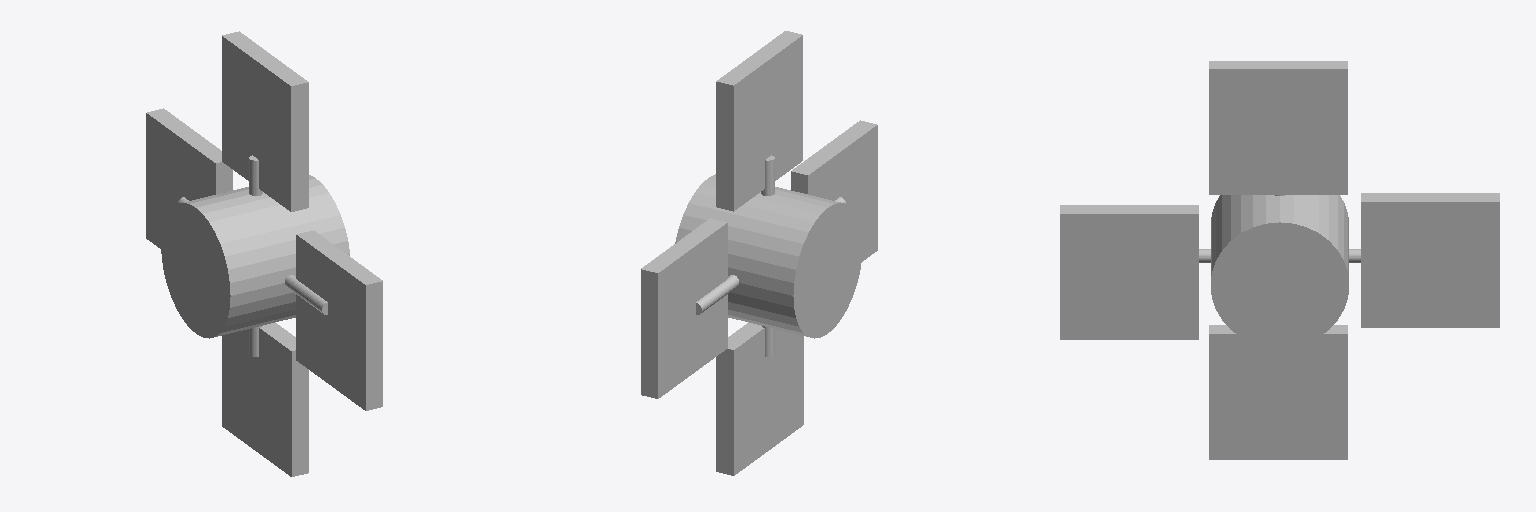
File: space_debris2.obj
The picture shows the model from 3 angles: view 1: azimuth 30°, elevation 25°; view 2: azimuth 150°, elevation 25°; view 3: azimuth 270°, elevation 25°; orthographic projection.
Visible parts, largest first — view 1: Cylinder, Plane.002, Plane, Plane.003, Plane.001, Cylinder.002; view 2: Cylinder, Plane.002, Plane.001, Plane.003, Plane, Cylinder.001; view 3: Cylinder, Plane, Plane.001, Plane.002, Plane.003.
Boxes of the visible parts, box(x1,y1,x2,y2) form: Cylinder: box(161, 175, 349, 338); Plane.002: box(222, 31, 308, 211); Plane: box(296, 230, 382, 410); Plane.003: box(222, 322, 308, 476); Plane.001: box(146, 108, 232, 248); Cylinder.002: box(285, 275, 327, 314); Cylinder: box(675, 174, 862, 338); Plane.002: box(716, 31, 802, 211); Plane.001: box(641, 218, 727, 398); Plane.003: box(716, 322, 803, 475); Plane: box(791, 120, 877, 261); Cylinder.001: box(696, 275, 738, 314); Cylinder: box(1211, 195, 1348, 347); Plane: box(1060, 205, 1198, 339); Plane.001: box(1361, 193, 1499, 327); Plane.002: box(1209, 61, 1347, 194); Plane.003: box(1209, 325, 1347, 459).
Bounding box in the file's own units: 2 × 6.2 × 6.32.